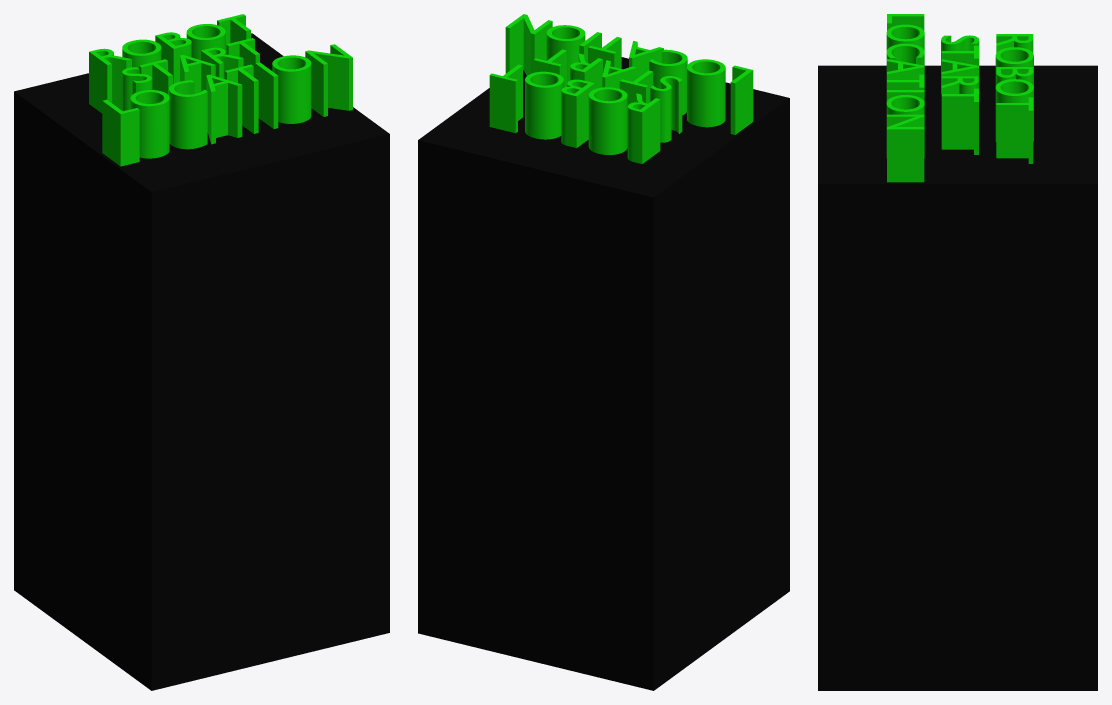
Rendered from start_pillar.dae.
The picture shows the model from 3 angles, left to right: view 1: azimuth 30°, elevation 25°; view 2: azimuth 150°, elevation 25°; view 3: azimuth 270°, elevation 25°; orthographic projection. The views are drawn at different scales.
Visible parts, largest first — view 1: Cube, Text; view 2: Cube, Text; view 3: Cube, Text.
Part boxes in pixels (box(x1,y1,x2,y2)): Cube: box(14, 33, 389, 690); Text: box(89, 14, 352, 166); Cube: box(418, 57, 789, 690); Text: box(489, 14, 753, 163); Cube: box(818, 65, 1097, 690); Text: box(886, 14, 1033, 182).
Bounding box in the file's own units: 1 × 1 × 2.21.
